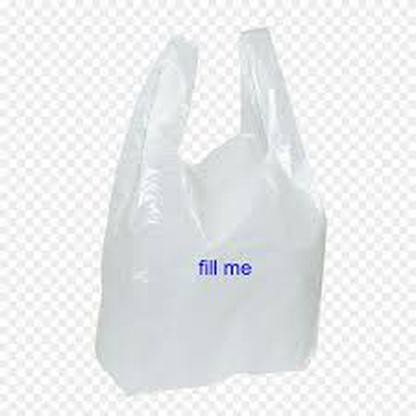plastic bag: (96, 29, 328, 396)
